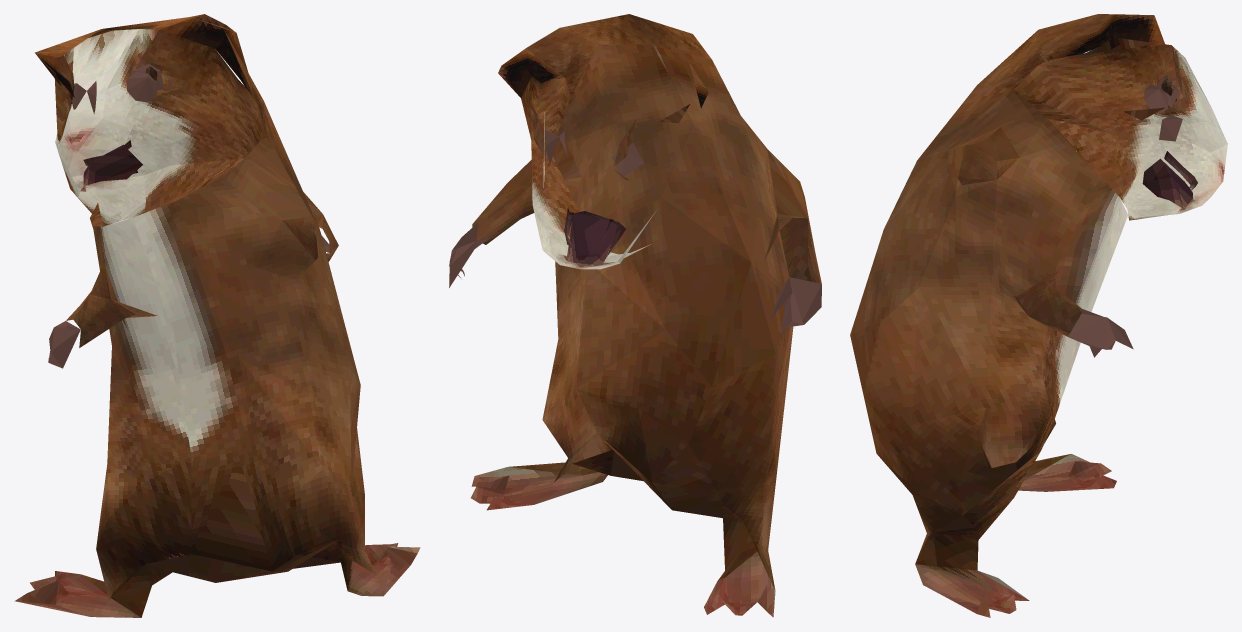
The model's file is ps2_save-icons_gforce2009.glb.
3 renders of one model, left to right at view 1: azimuth 30°, elevation 25°; view 2: azimuth 150°, elevation 25°; view 3: azimuth 270°, elevation 25°, orthographic. The views are drawn at different scales.
Parts seen in each view (by area): view 1: icon.ico; view 2: icon.ico; view 3: icon.ico.
Boxes of the visible parts, <box> form: icon.ico: <box>14,14,420,617</box>; icon.ico: <box>449,14,821,617</box>; icon.ico: <box>850,14,1227,617</box>.
Size of the model in its own units: 2.93 by 4.27 by 2.92.
Materials: 1 (1 with a texture image).
